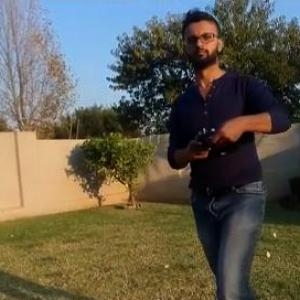follow: (159, 7, 293, 299)
